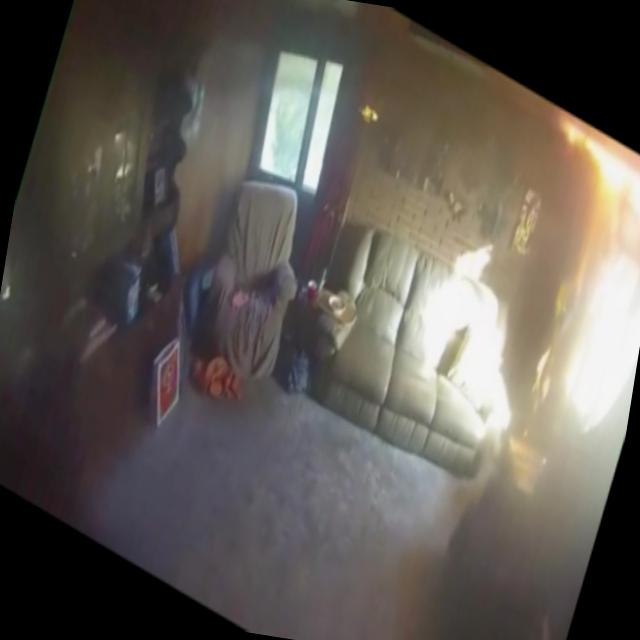fire: (475, 106, 640, 457)
